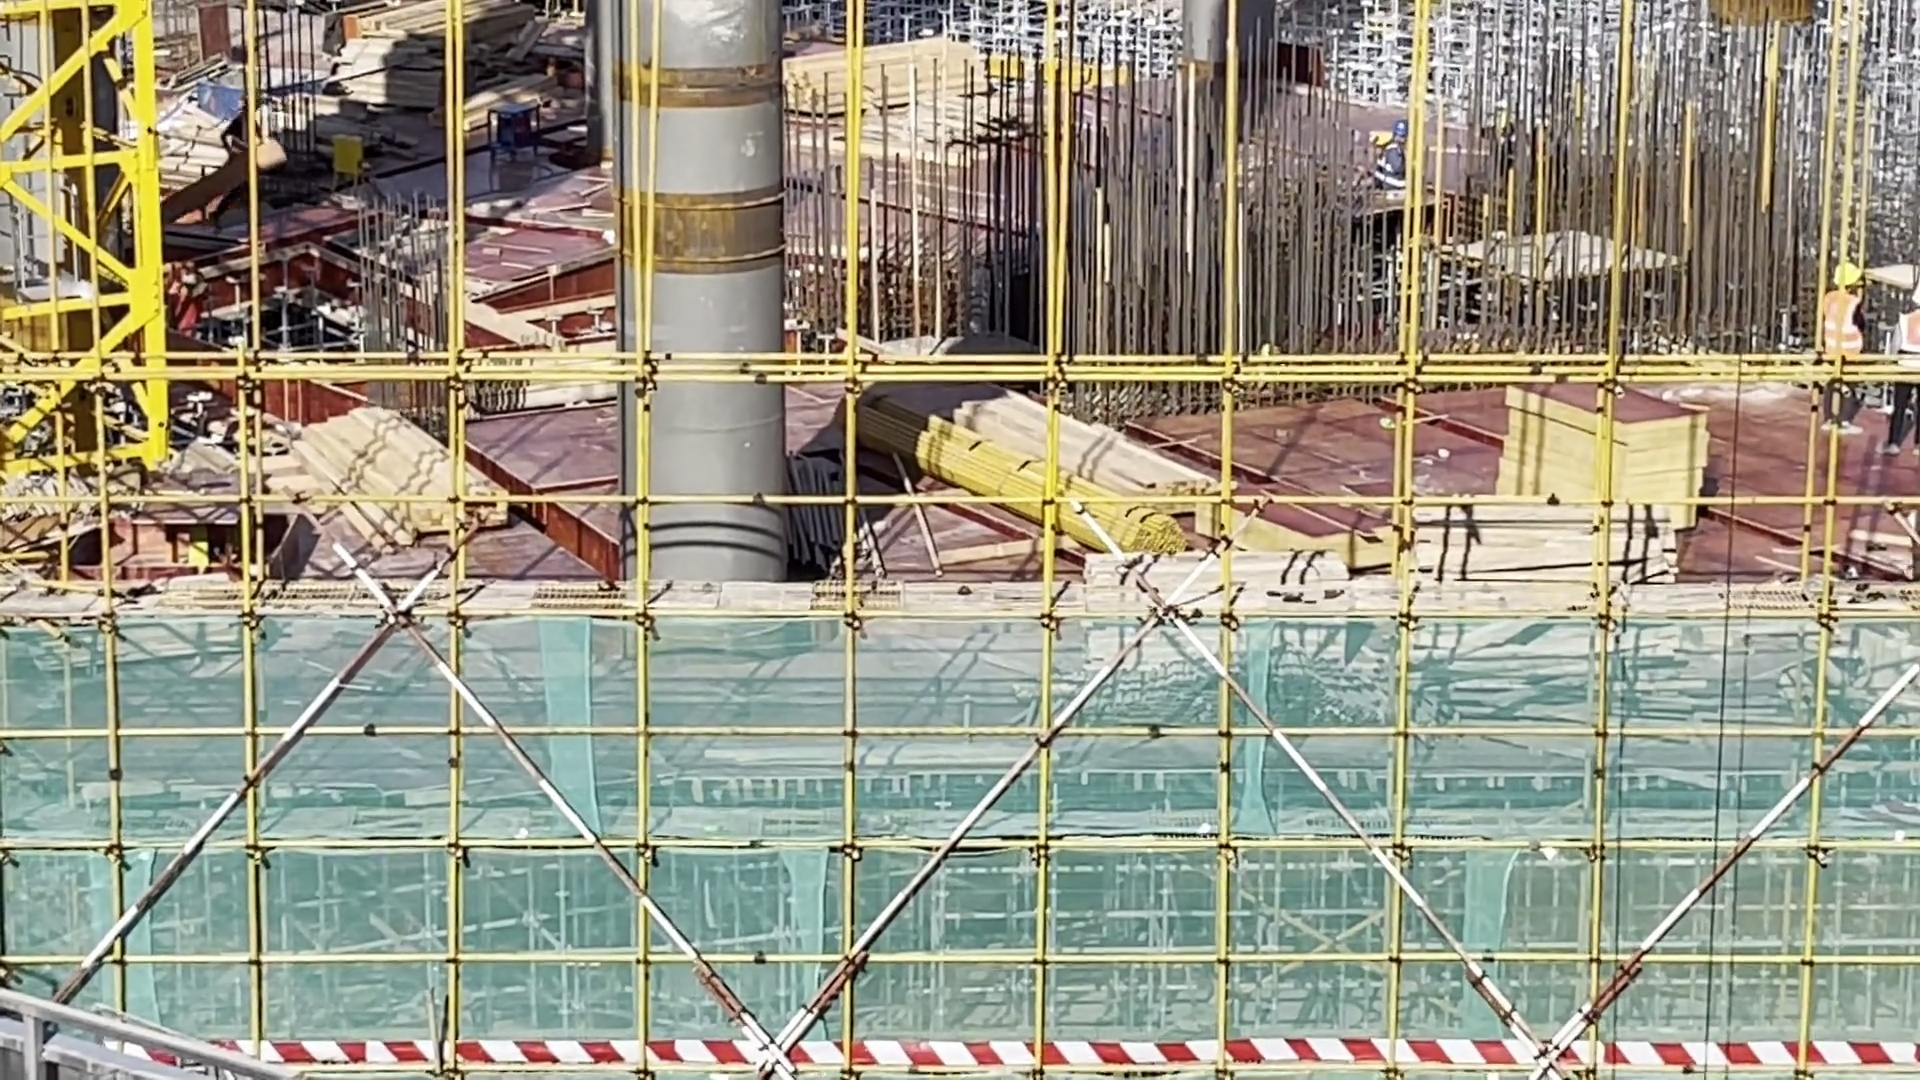board: (1508, 381, 1724, 516)
person: (1812, 257, 1858, 418)
vest: (1817, 291, 1862, 353)
wood: (912, 389, 1223, 549), (271, 412, 505, 539), (1402, 488, 1686, 581)
